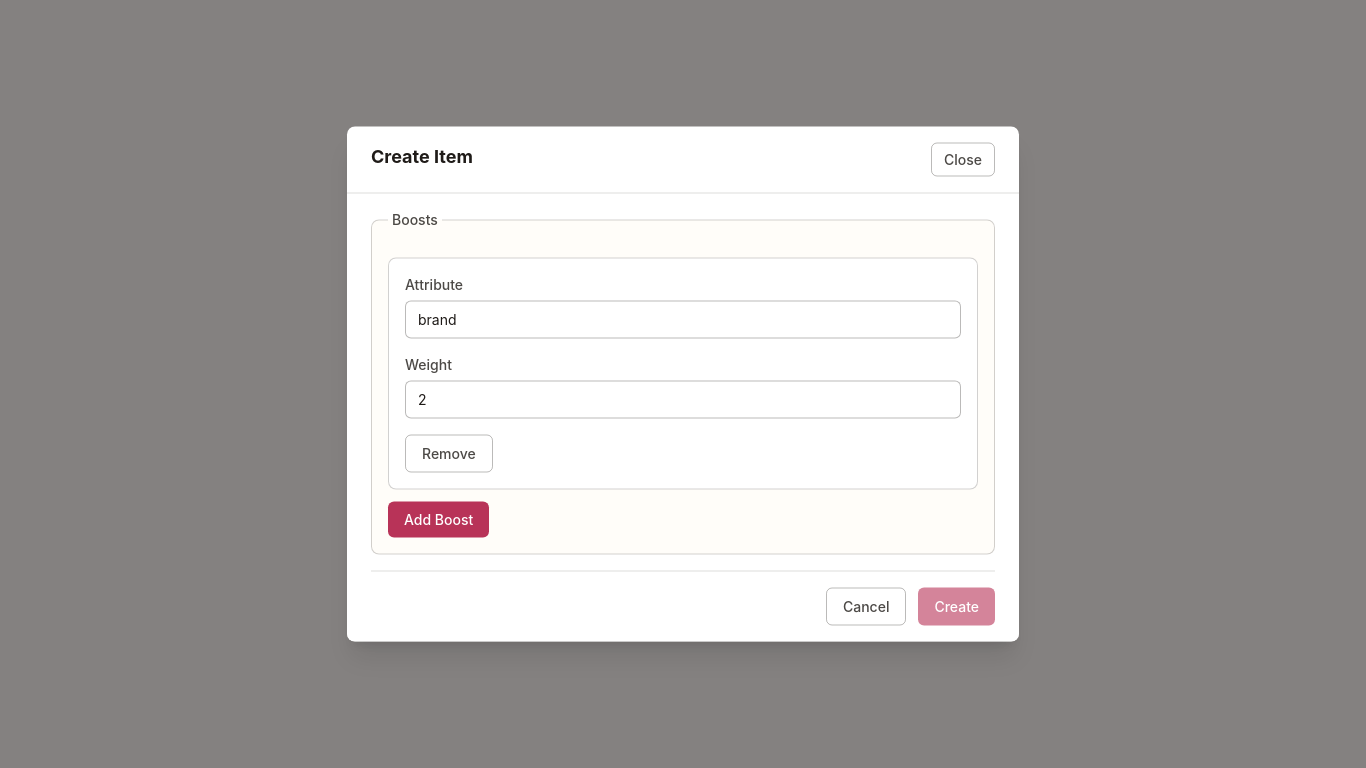
Test: EditorDialog array fields › enforces grouped child constraints through the shared schema validation path
Replace the text in the field with test id "editor-dialog-field-boosts-0-attribute" with "toolong" at x=683, y=320, box [405,300,961,338]
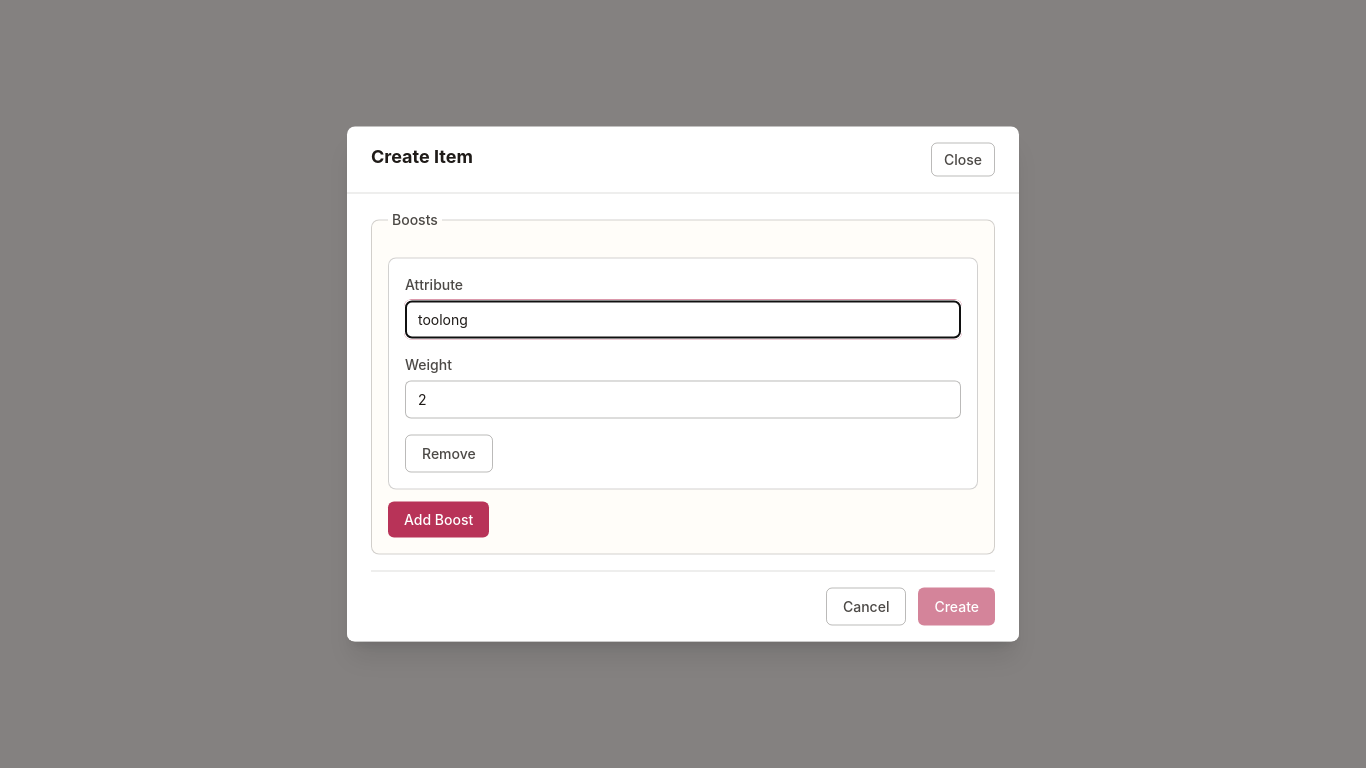
Leave the field with test id "editor-dialog-field-boosts-0-attribute", box [405,300,961,338]
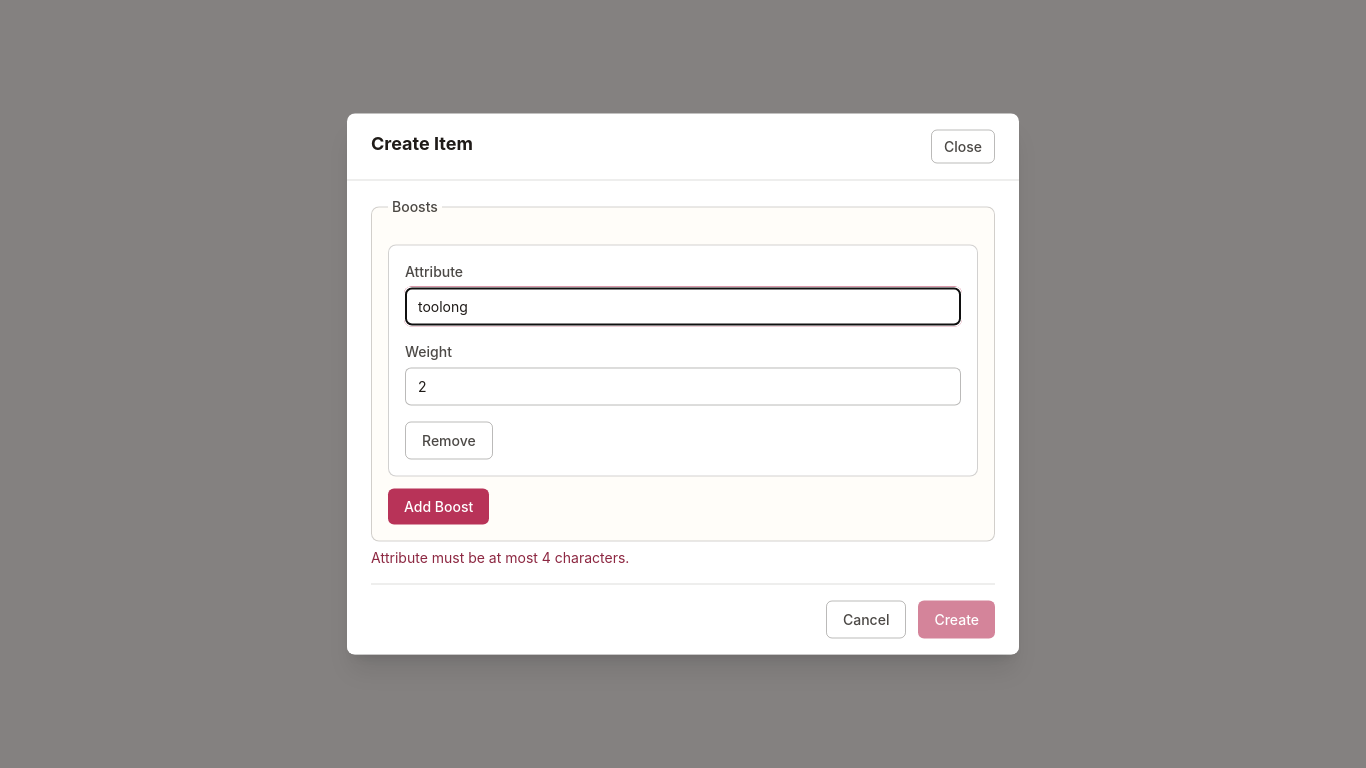
Check: the text "Attribute must be at most 4 characters." is shown, box [371,548,629,566]
Replace the text in the field with test id "editor-dialog-field-boosts-0-attribute" with "size" at x=683, y=306, box [405,288,961,326]
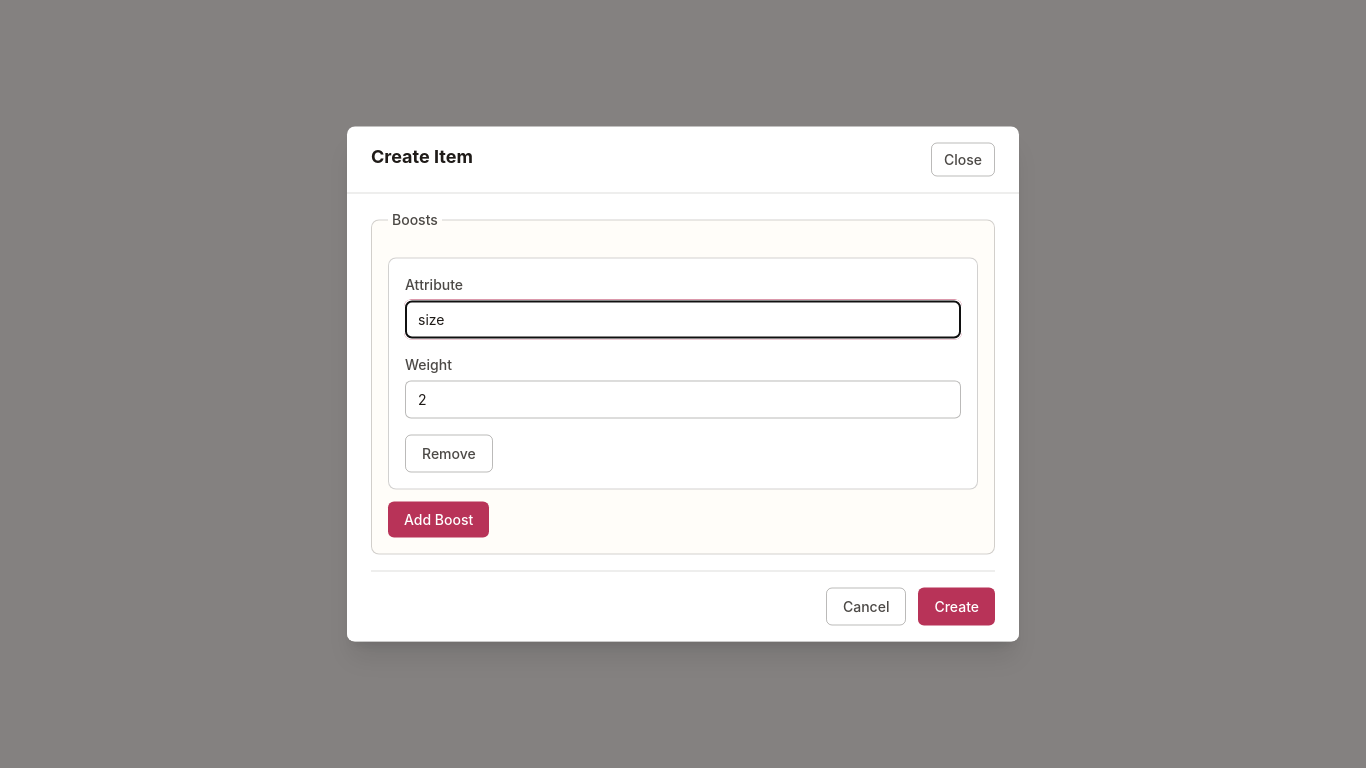
Replace the text in the number field with test id "editor-dialog-field-boosts-0-weight" with "0.5" at x=683, y=400, box [405,380,961,418]
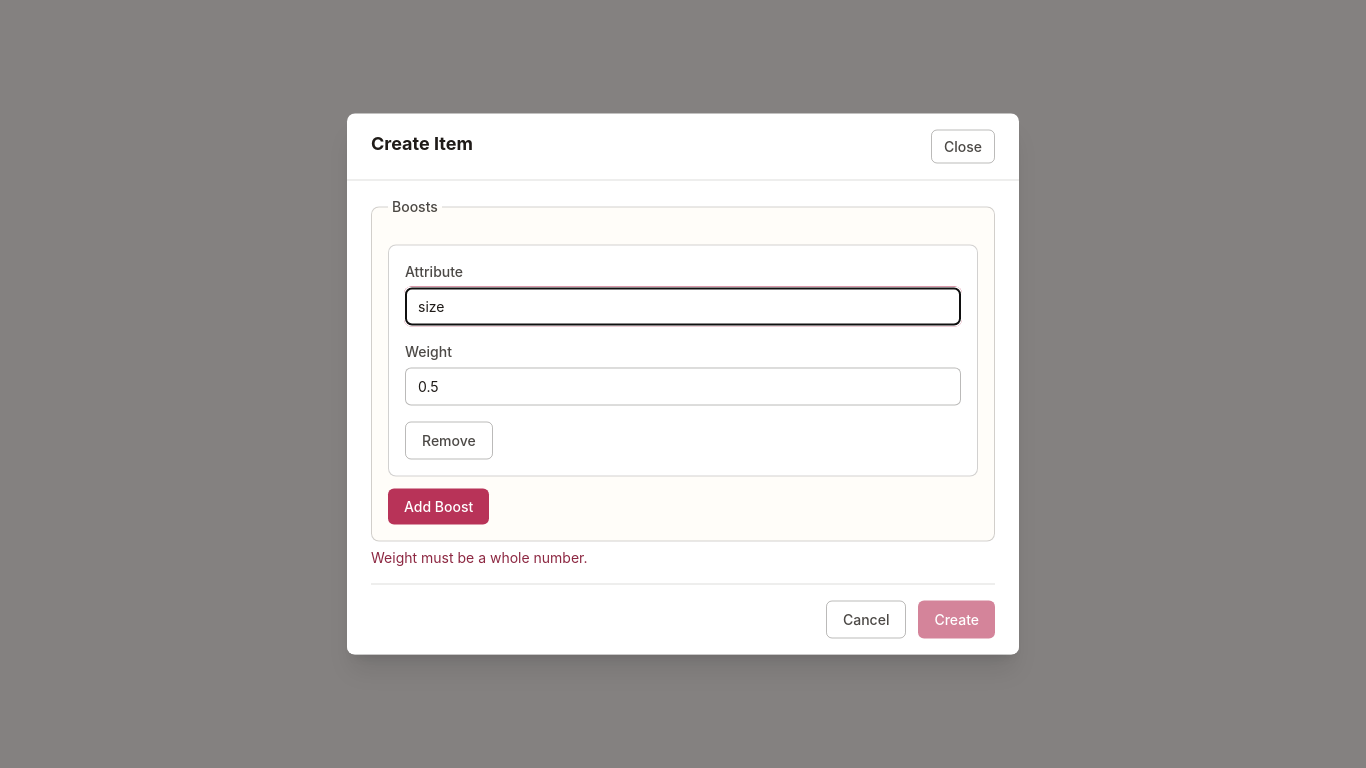
Check: the text "Weight must be a whole number." is shown, box [371,548,588,566]
Replace the text in the number field with test id "editor-dialog-field-boosts-0-weight" with "0" at x=683, y=386, box [405,368,961,406]
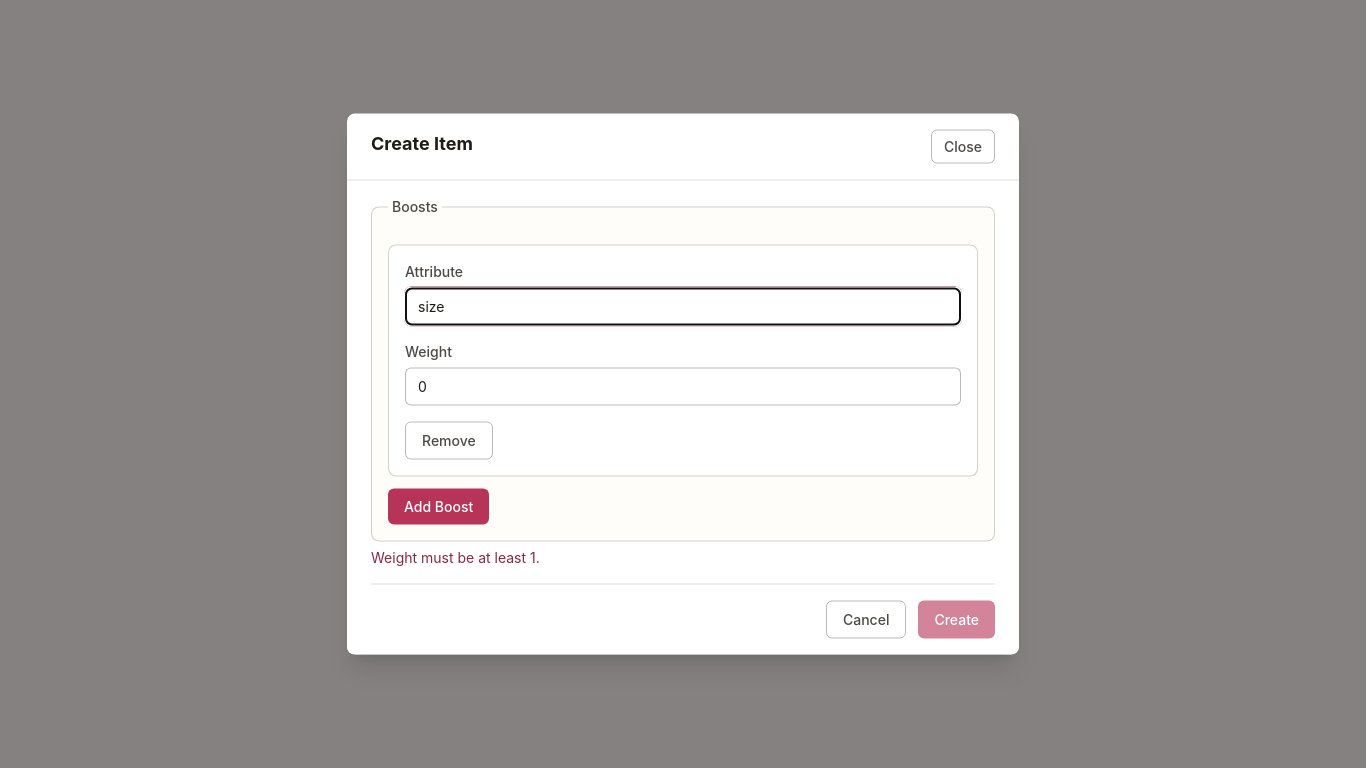
Check: the text "Weight must be at least 1." is shown, box [371,548,540,566]
Replace the text in the number field with test id "editor-dialog-field-boosts-0-weight" with "3" at x=683, y=386, box [405,368,961,406]
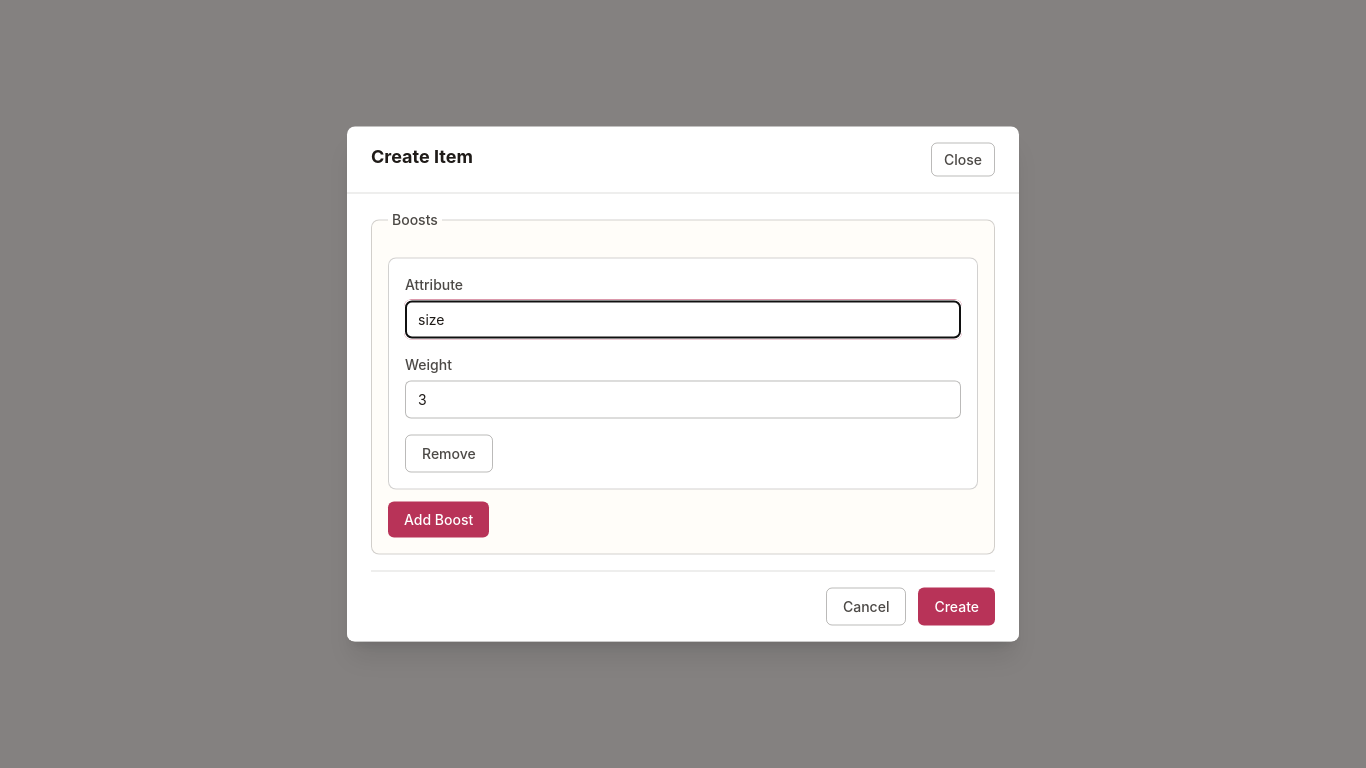
Check: the text "Weight must be at least 1." is gone
Check: the button with test id "editor-dialog-save" is enabled, box [918,588,995,626]
